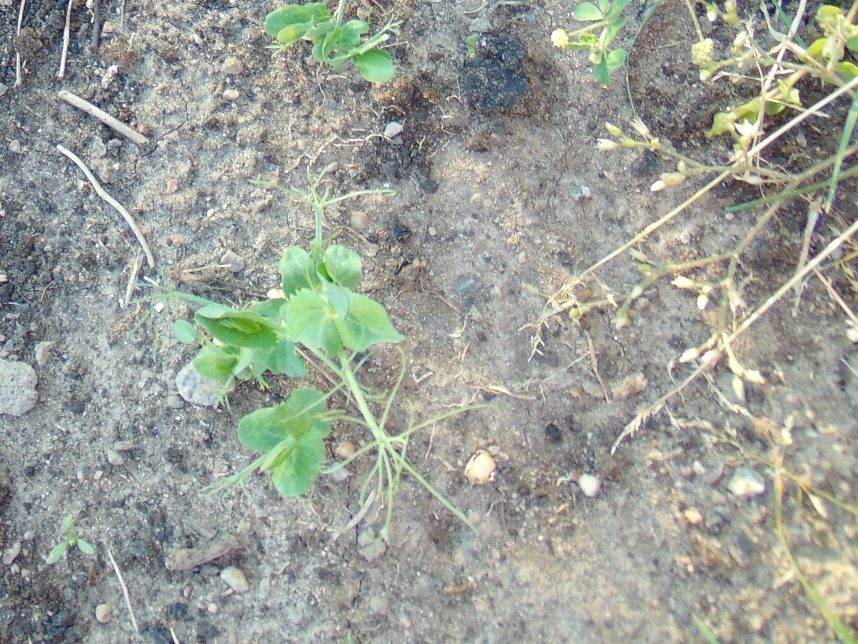crop: (153, 203, 440, 541), (265, 1, 395, 89)
weed: (753, 1, 858, 138), (565, 1, 634, 76), (45, 514, 93, 566)
